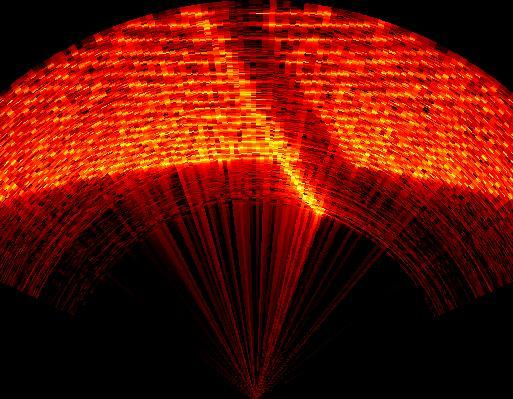pipe: (200, 0, 357, 201)
